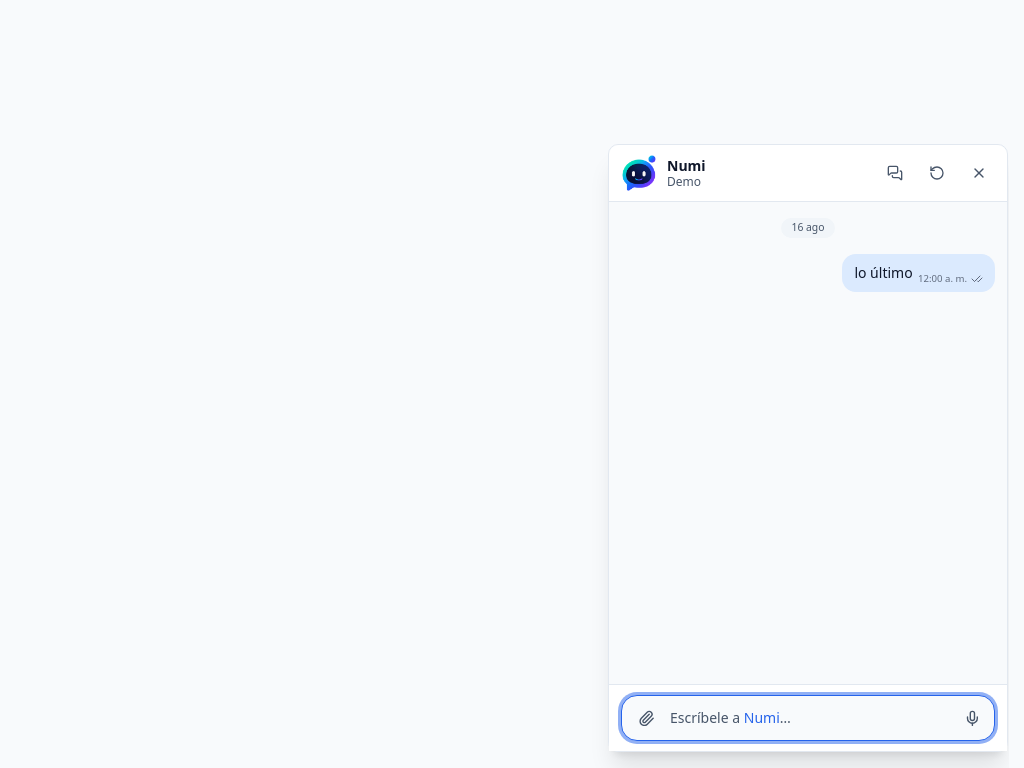
Test case: el resultado dice de qué conversación salió y enseña el trozo buscado
This screenshot has width=1024, height=768.
Click the button named "Ver mis conversaciones" at x=895, y=173, box [879, 157, 911, 189]
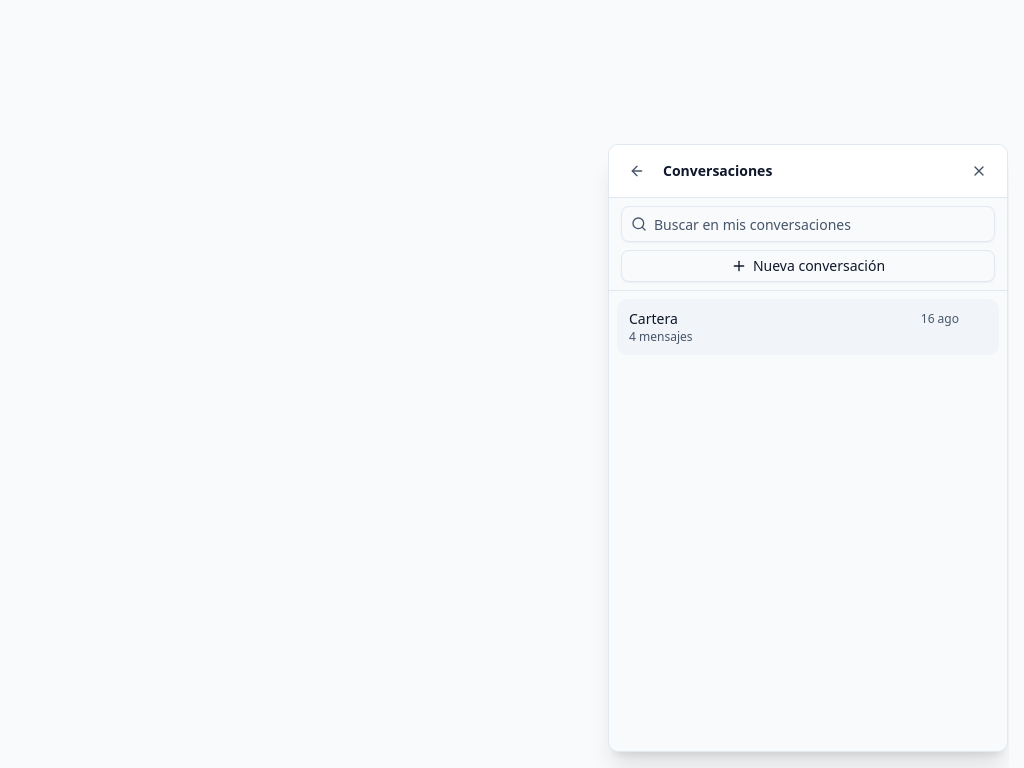
Type "Ana" into the search field labelled "Buscar en mis conversaciones" at x=808, y=224, box [621, 206, 995, 242]
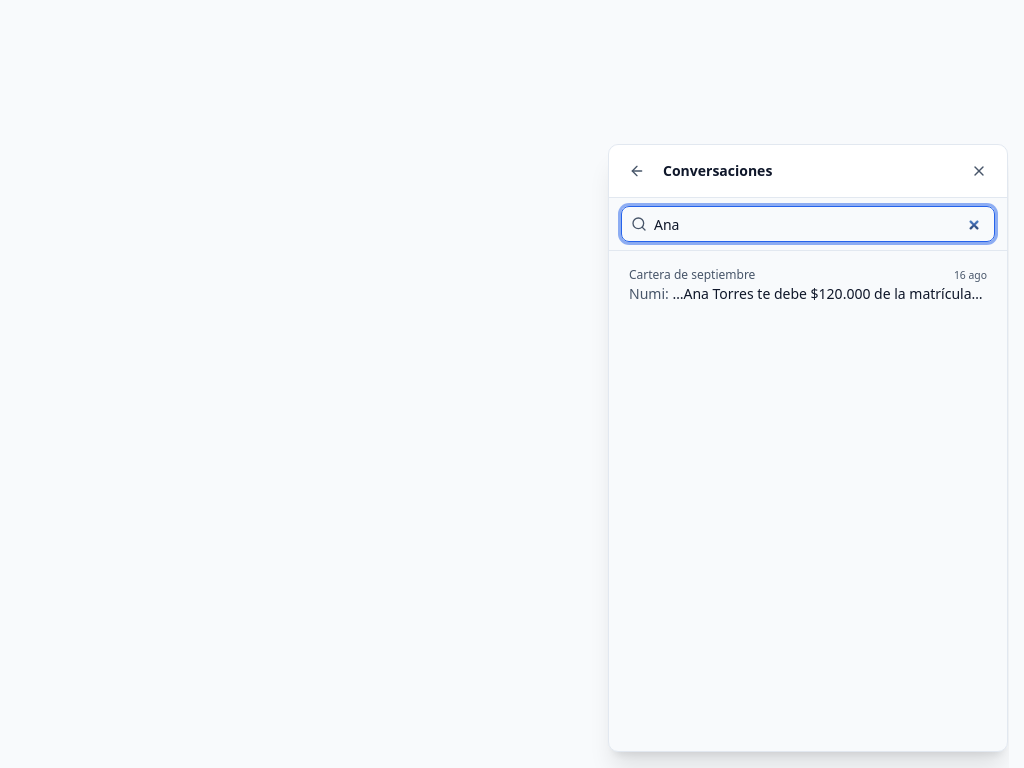
Result: the text "Cartera de septiembre" is shown at [629, 266, 755, 283]
Result: the text "Numi: …Ana Torres te debe $120.000 de la matrícula…" is shown at [629, 284, 987, 304]
Result: the text "Numi:" is shown at [629, 284, 672, 303]
